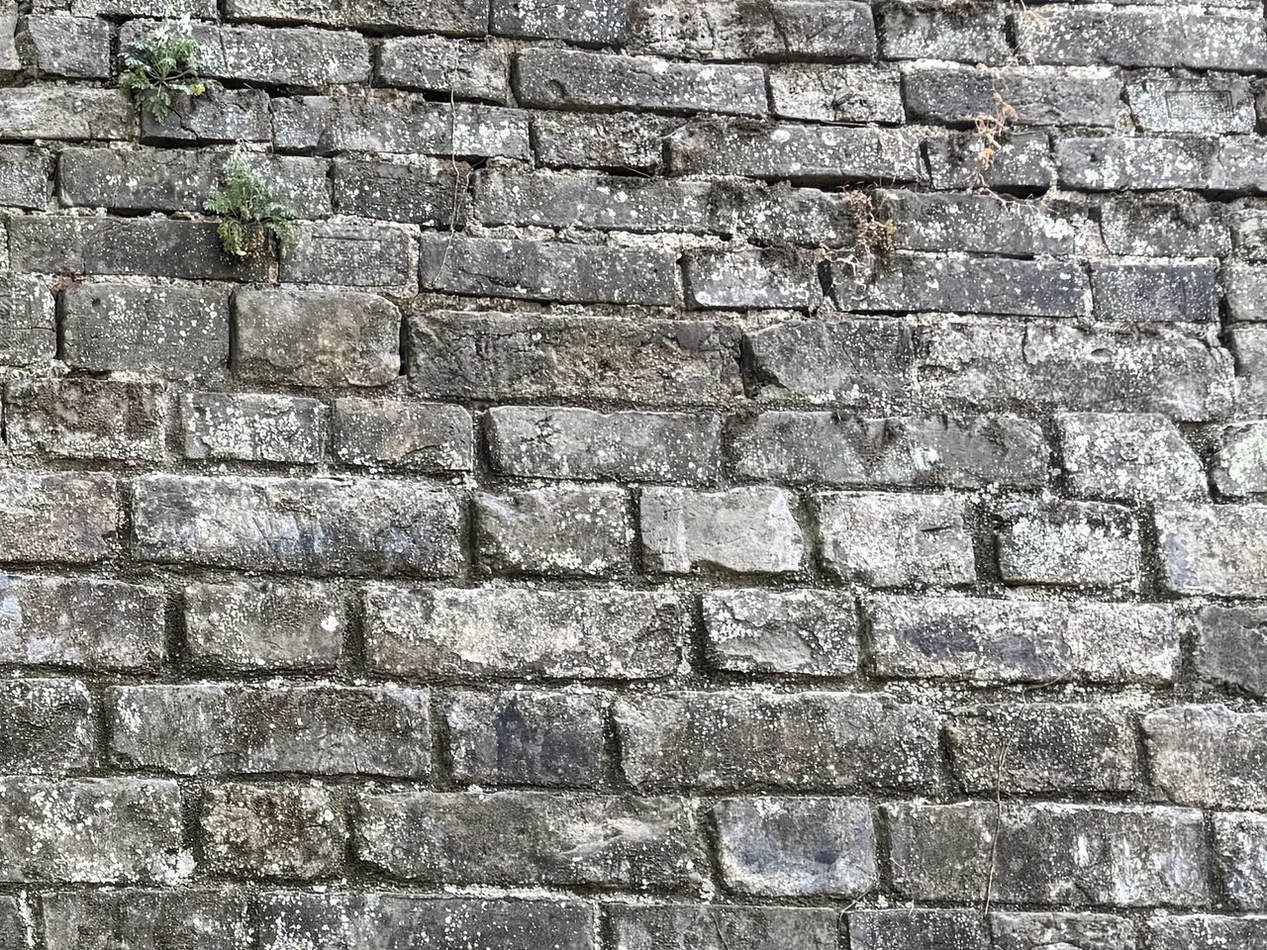vegetation: (201, 171, 299, 260), (117, 35, 213, 112)
